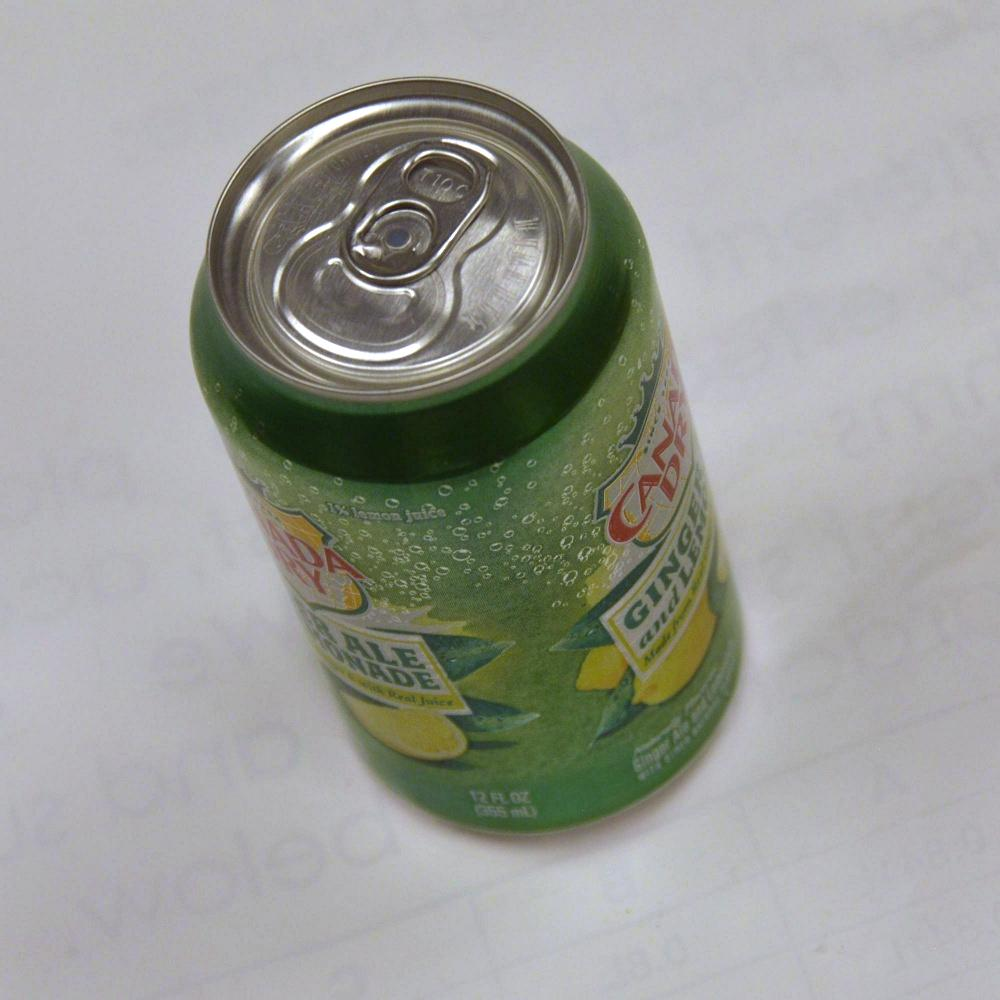Metal: (171, 52, 750, 895)
